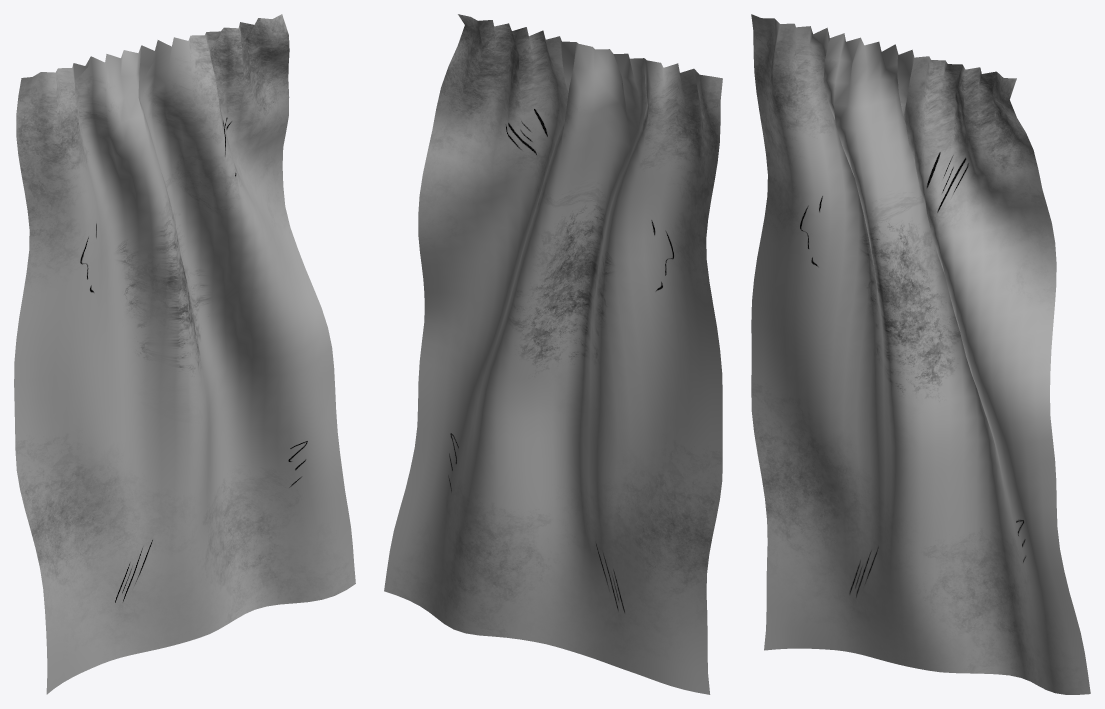
The model's file is Courtain.obj.
3 renders of one model, left to right at view 1: azimuth 30°, elevation 25°; view 2: azimuth 150°, elevation 25°; view 3: azimuth 330°, elevation 25°, orthographic.
Size of the model in its own units: 79.2 by 139 by 14.67.
